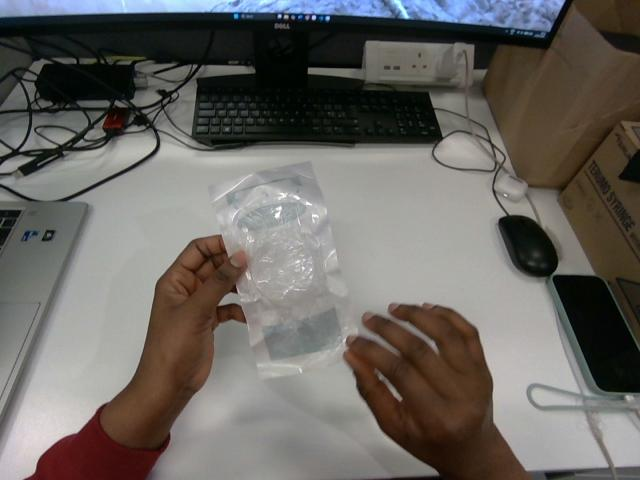gallipot: (210, 162, 356, 377)
